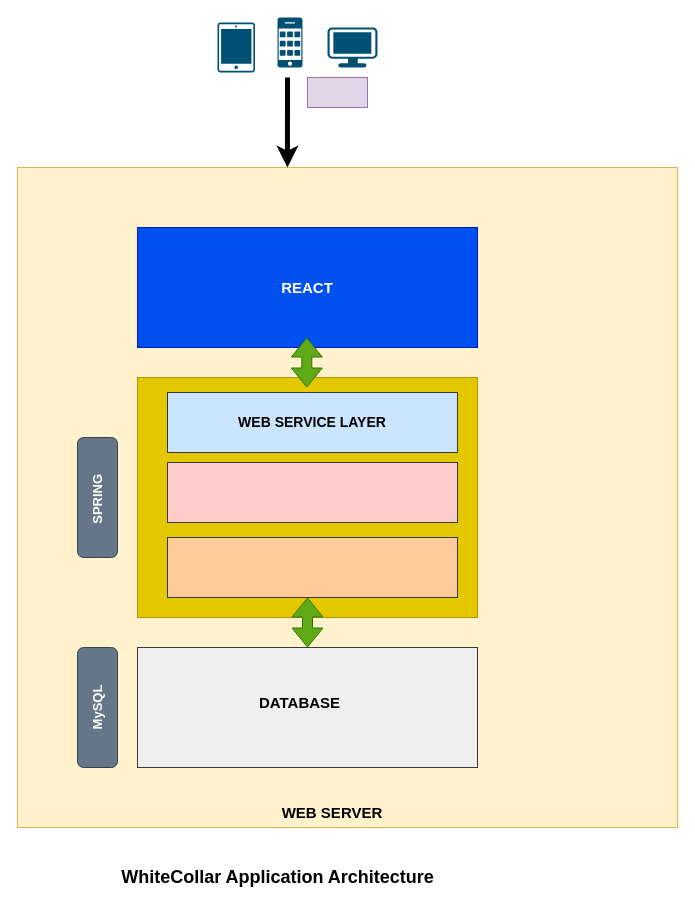
This 695x914 diagram has some shape labels left out. Each missing label, with the box of its shape:
BSINESS SERVICE LAYER: (166, 462, 458, 522)
DATA ACCESS LAYER: (166, 536, 458, 598)
HTTP: (306, 76, 368, 108)
